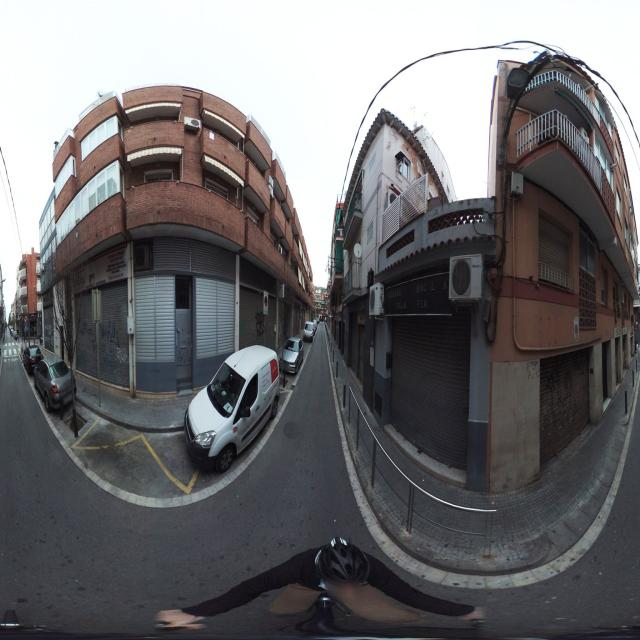forb_stopping: (264, 295, 267, 307)
